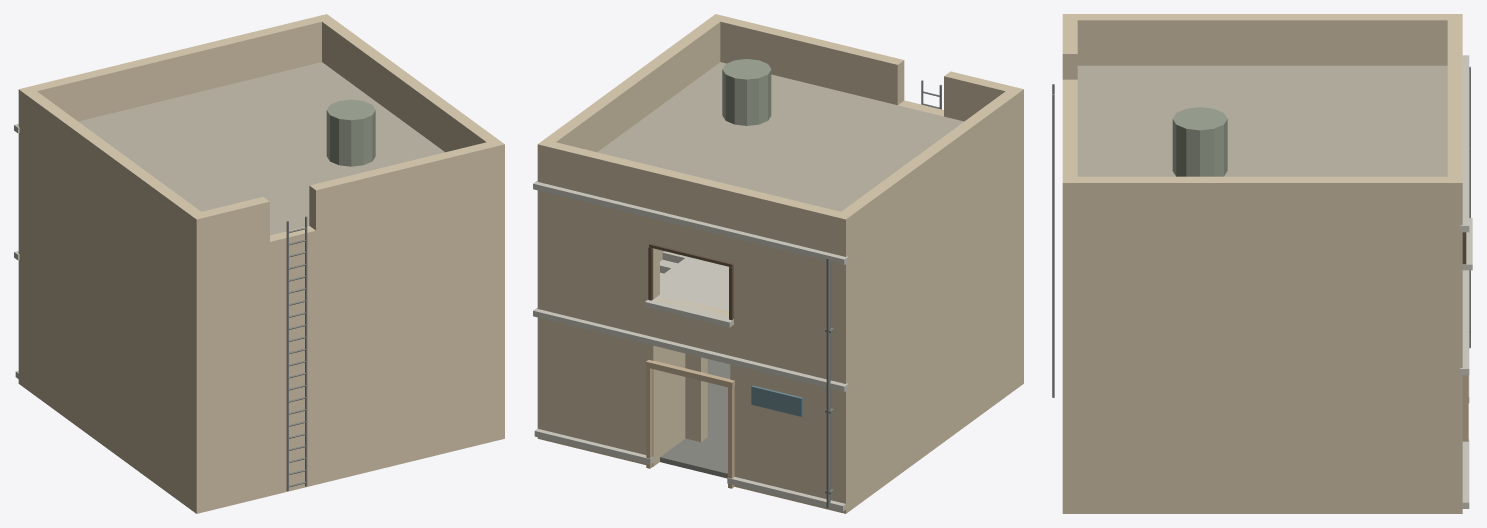
Rendered from res_house_2f_a.glb.
3 renders of one model, left to right at view 1: azimuth 30°, elevation 25°; view 2: azimuth 150°, elevation 25°; view 3: azimuth 270°, elevation 25°, orthographic. The views are drawn at different scales.
Visible parts, largest first — view 1: LOD0; view 2: LOD0; view 3: LOD0.
Boxes of the visible parts, bbox=[...] form: LOD0: bbox=[14, 14, 504, 513]; LOD0: bbox=[533, 14, 1023, 513]; LOD0: bbox=[1052, 14, 1472, 513].
Bounding box in the file's own units: 8.08 × 7.6 × 8.4.
